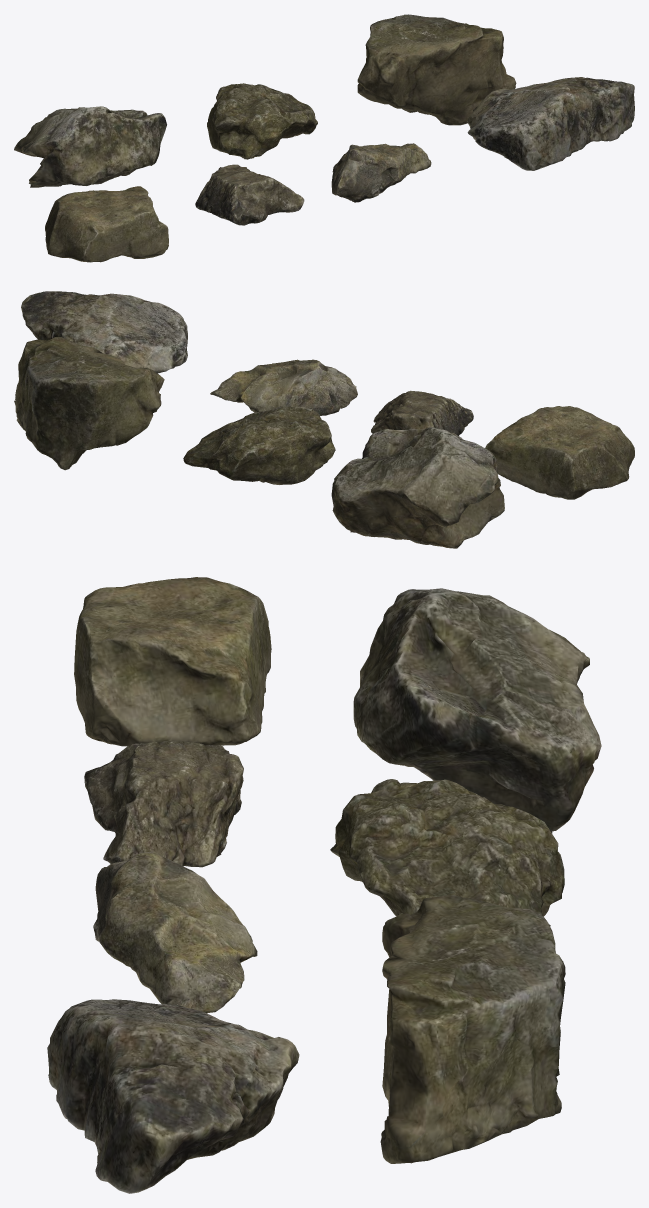
The model's file is rock_moss_set_02.glb.
3 renders of one model, top to bottom at view 1: azimuth 30°, elevation 25°; view 2: azimuth 150°, elevation 25°; view 3: azimuth 270°, elevation 25°, orthographic. The views are drawn at different scales.
Visible parts, largest first — view 1: rock_moss_set_02_rock13, rock_moss_set_02_rock10, rock_moss_set_02_rock11, rock_moss_set_02_rock07, rock_moss_set_02_rock12, rock_moss_set_02_rock08, rock_moss_set_02_rock09; view 2: rock_moss_set_02_rock11, rock_moss_set_02_rock13, rock_moss_set_02_rock07, rock_moss_set_02_rock10, rock_moss_set_02_rock12, rock_moss_set_02_rock09, rock_moss_set_02_rock08; view 3: rock_moss_set_02_rock13, rock_moss_set_02_rock11, rock_moss_set_02_rock10, rock_moss_set_02_rock07, rock_moss_set_02_rock12, rock_moss_set_02_rock09, rock_moss_set_02_rock08.
Boxes of the visible parts, x1=… form: rock_moss_set_02_rock13: x1=357, y1=14, x2=516, y2=125; rock_moss_set_02_rock10: x1=467, y1=77, x2=634, y2=170; rock_moss_set_02_rock11: x1=14, y1=106, x2=166, y2=187; rock_moss_set_02_rock07: x1=45, y1=186, x2=168, y2=262; rock_moss_set_02_rock12: x1=207, y1=83, x2=317, y2=159; rock_moss_set_02_rock08: x1=195, y1=164, x2=304, y2=225; rock_moss_set_02_rock09: x1=331, y1=143, x2=431, y2=202; rock_moss_set_02_rock11: x1=331, y1=427, x2=504, y2=548; rock_moss_set_02_rock13: x1=14, y1=337, x2=164, y2=470; rock_moss_set_02_rock07: x1=485, y1=406, x2=634, y2=499; rock_moss_set_02_rock10: x1=21, y1=291, x2=187, y2=373; rock_moss_set_02_rock12: x1=183, y1=406, x2=335, y2=484; rock_moss_set_02_rock09: x1=210, y1=359, x2=357, y2=415; rock_moss_set_02_rock08: x1=371, y1=390, x2=473, y2=435; rock_moss_set_02_rock13: x1=380, y1=895, x2=565, y2=1163; rock_moss_set_02_rock11: x1=353, y1=588, x2=601, y2=833; rock_moss_set_02_rock10: x1=47, y1=999, x2=299, y2=1193; rock_moss_set_02_rock07: x1=74, y1=577, x2=271, y2=746; rock_moss_set_02_rock12: x1=330, y1=779, x2=564, y2=926; rock_moss_set_02_rock09: x1=93, y1=851, x2=257, y2=1013; rock_moss_set_02_rock08: x1=84, y1=741, x2=243, y2=867.
Bounding box in the file's own units: 8.28 × 1.37 × 3.41.
Materials: 1 (1 with a texture image).
